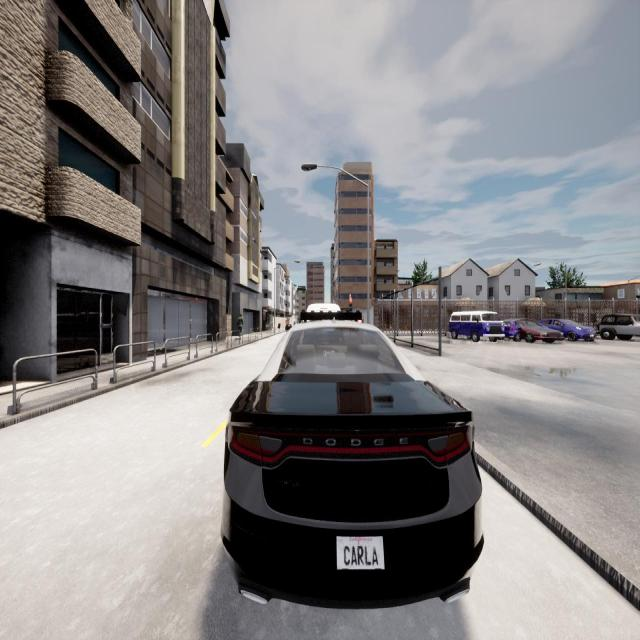Pedestrian: (237, 313, 243, 336)
Vehicle: (221, 323, 483, 611), (450, 312, 505, 342), (504, 319, 564, 343), (538, 320, 595, 341), (599, 314, 640, 339), (306, 304, 341, 312)
traffic_light: (349, 298, 352, 312)
